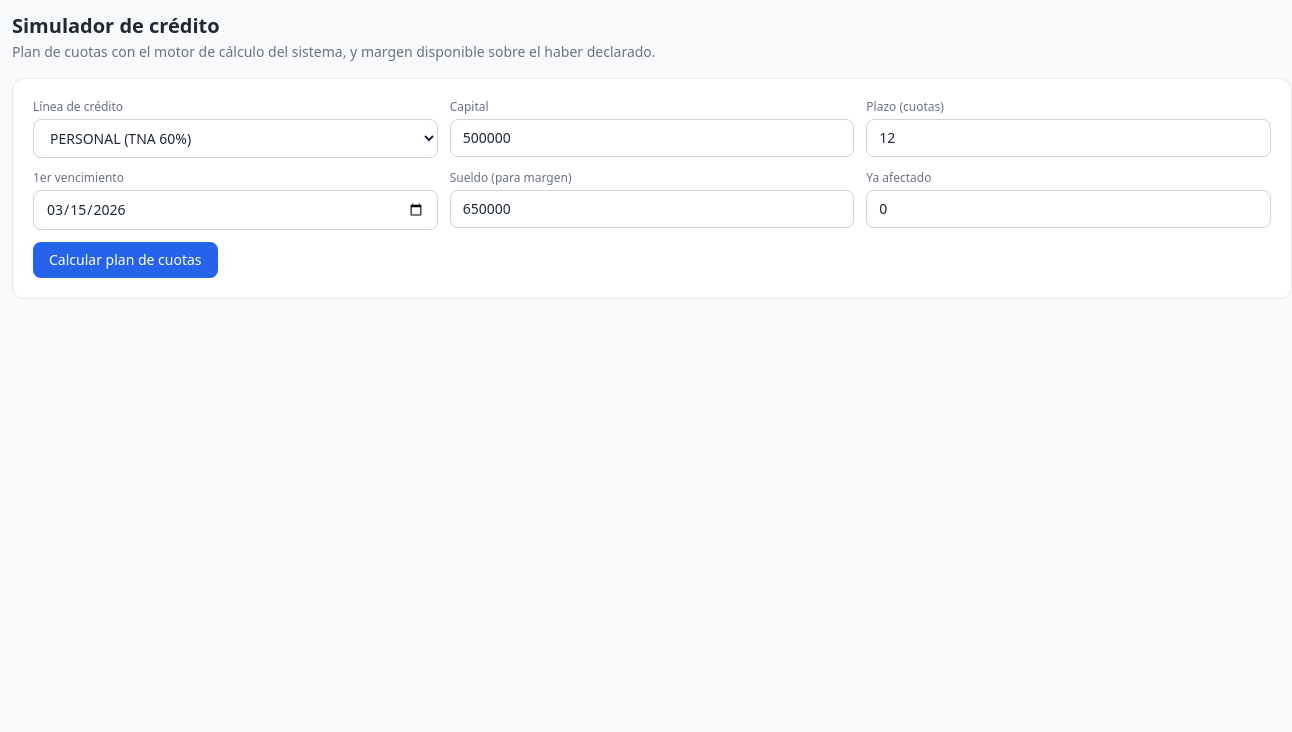
Test: Simulador de crédito › arranca con la primera línea y calcula el plan
The image size is (1292, 732).
Expected: the dropdown labelled "Línea de crédito" shows "PERSONAL (TNA 60%)", top-left (33, 119), bottom-right (438, 158)
Click the button "Calcular plan de cuotas" at point(125, 260), box top-left (33, 242), bottom-right (218, 278)
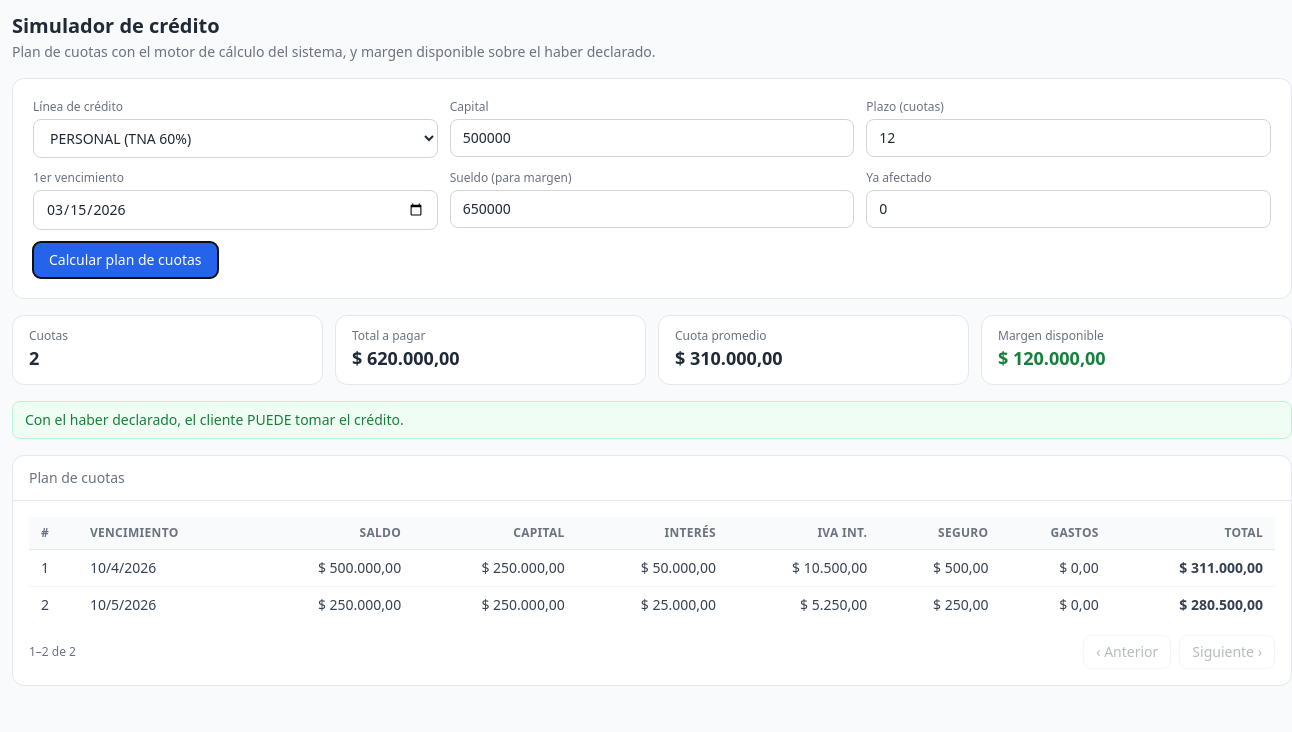
Expected: the text "Cuota promedio" is shown, top-left (675, 327), bottom-right (766, 344)
Expected: the number of rows is 3, top-left (29, 517), bottom-right (1275, 550); top-left (29, 550), bottom-right (1275, 586); top-left (29, 586), bottom-right (1275, 623)
